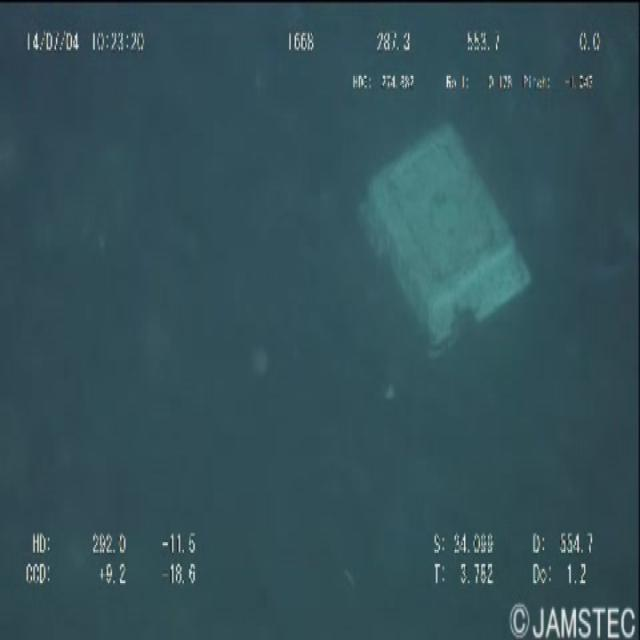Cutlery: (352, 121, 539, 348)
